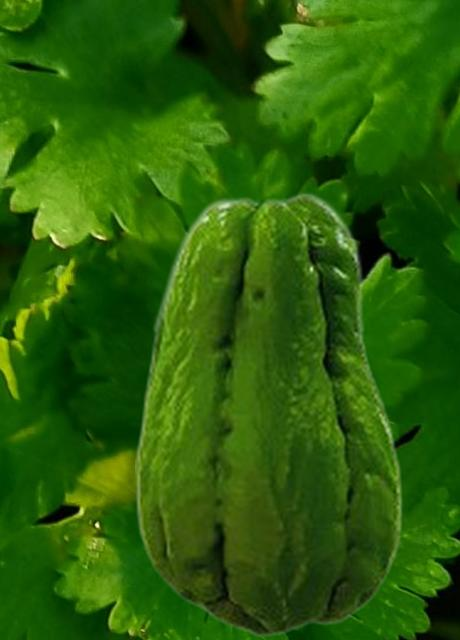sayote: (135, 191, 402, 637)
